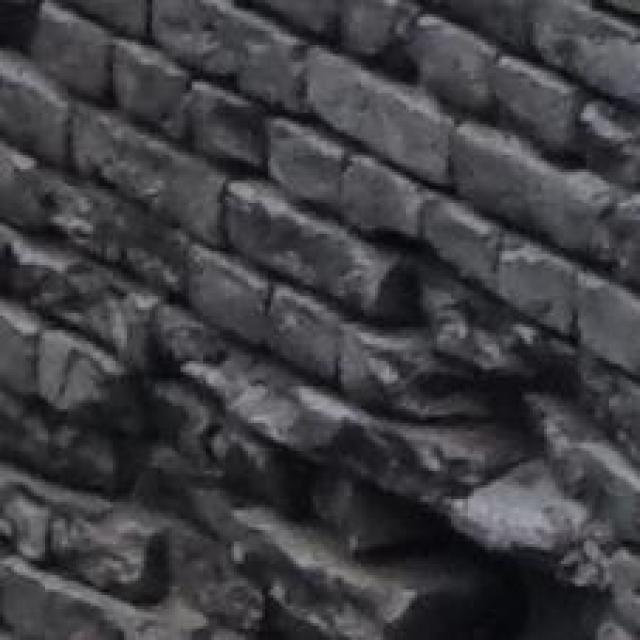Crack: (254, 239, 612, 640)
